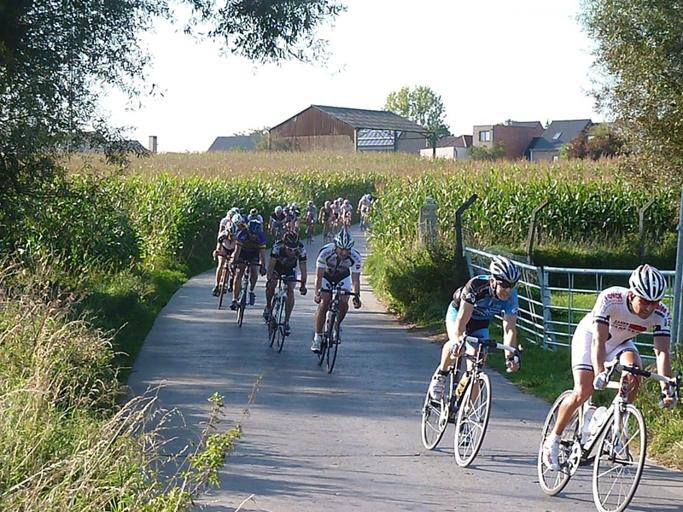non-vehicle: (533, 355, 682, 511), (418, 331, 527, 468), (311, 281, 359, 375), (265, 272, 305, 353), (228, 257, 261, 329), (210, 251, 232, 310)
